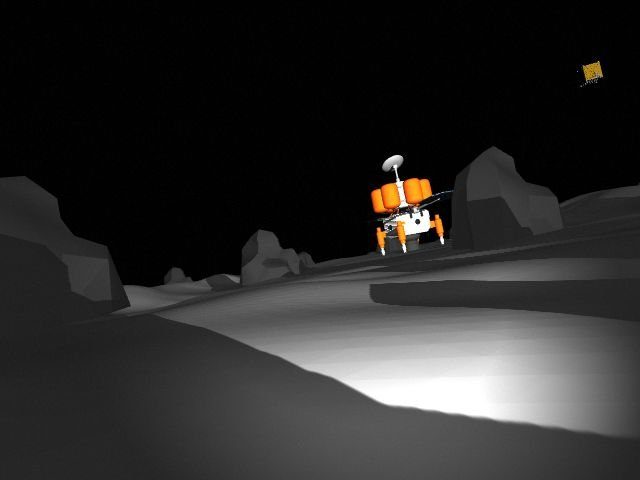homebase: (354, 152, 462, 258)
